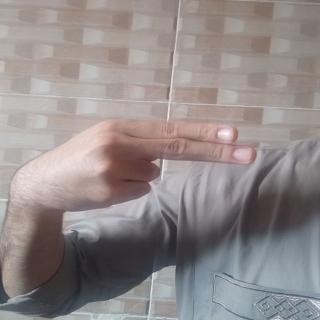AYN: (10, 112, 268, 218)
